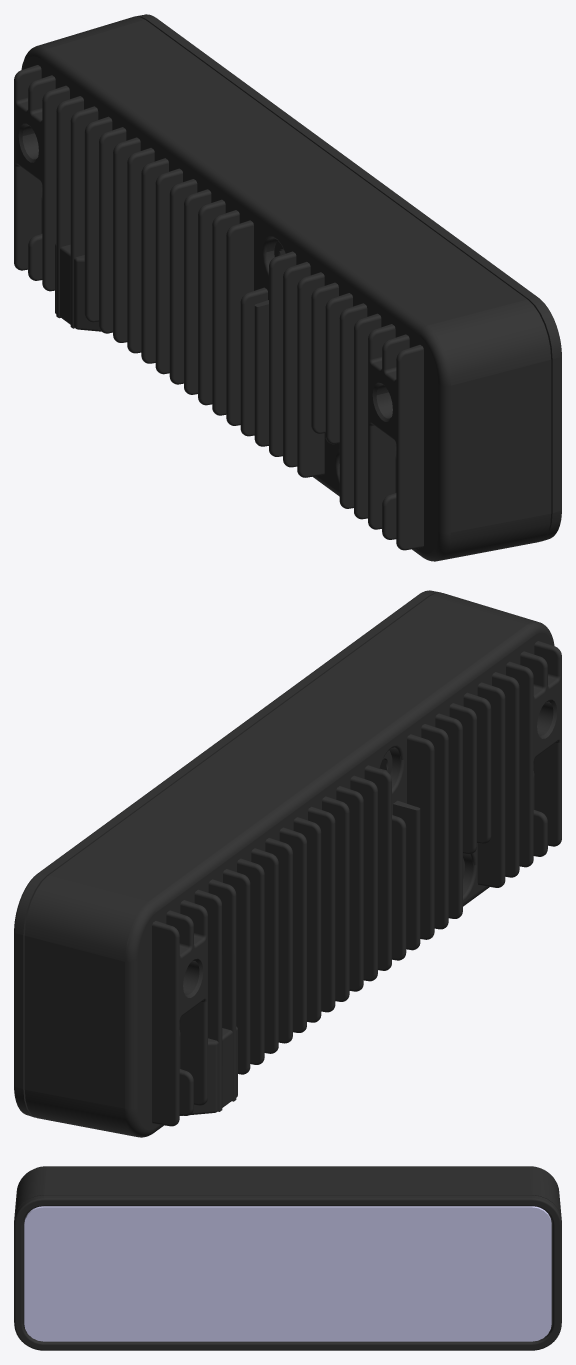
File: OakDLite.dae
3 views of the same model, one above another, from view 1: azimuth 30°, elevation 25°; view 2: azimuth 150°, elevation 25°; view 3: azimuth 270°, elevation 25° (orthographic). The views are drawn at different scales.
Visible parts, largest first — view 1: FrameMesh; view 2: FrameMesh; view 3: GlassMesh, FrameMesh.
Boxes of the visible parts, left/top/right/bottom form: FrameMesh: left=14, top=14, right=561, bottom=561; FrameMesh: left=14, top=590, right=561, bottom=1137; GlassMesh: left=24, top=1206, right=551, bottom=1341; FrameMesh: left=14, top=1166, right=561, bottom=1350.
Bounding box in the file's own units: 0.0175 × 0.091 × 0.028.
